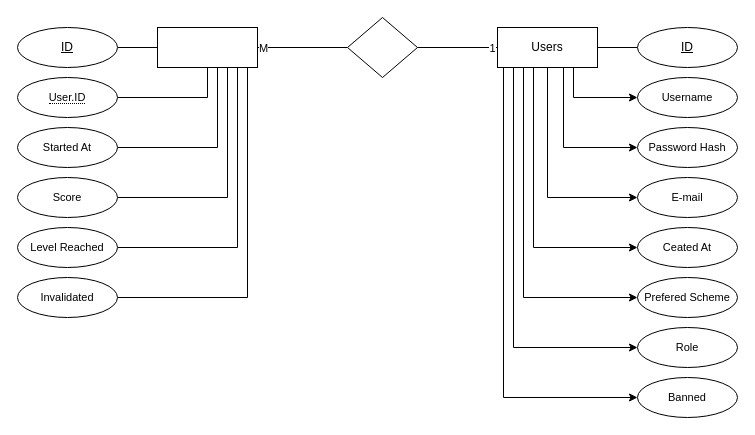
This 755x435 diagram has some shape labels left out. Each missing label, with the centre of its shape:
"Game Sessions" belongs at (207,47).
"HAS" belongs at (382,47).
